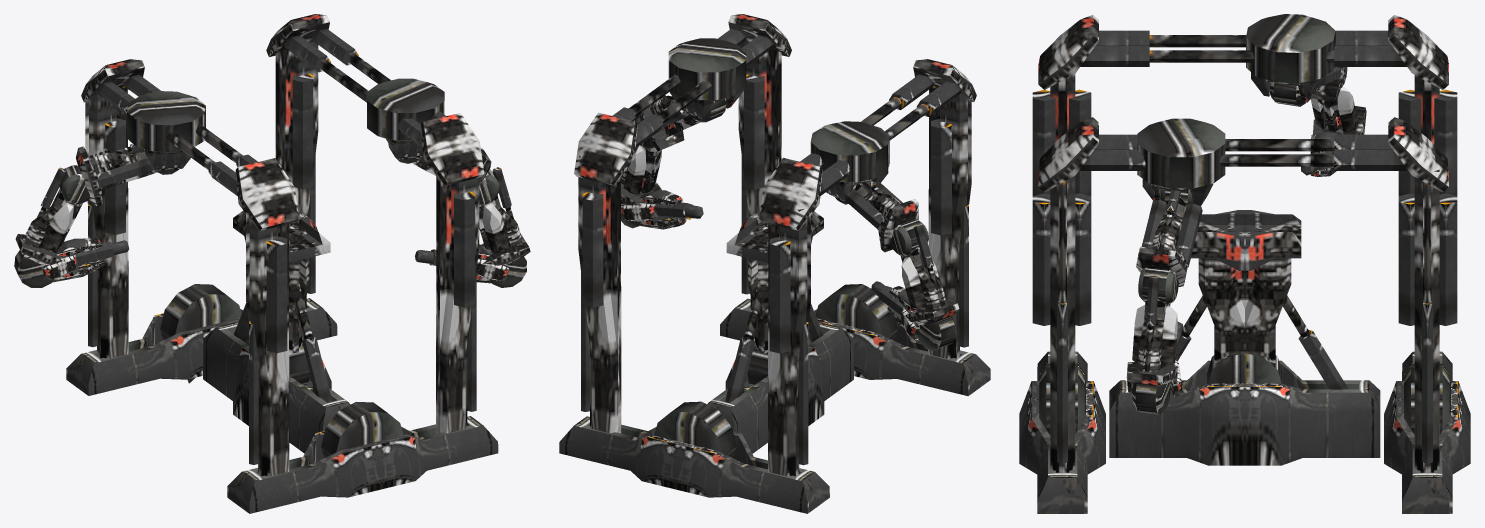
The model's file is SM_EN_1002_jixie01.FBX.
The picture shows the model from 3 angles, left to right: view 1: azimuth 30°, elevation 25°; view 2: azimuth 150°, elevation 25°; view 3: azimuth 270°, elevation 25°; orthographic projection. The views are drawn at different scales.
Parts seen in each view (by area): view 1: SM_EN_1002_jixie01; view 2: SM_EN_1002_jixie01; view 3: SM_EN_1002_jixie01.
Part boxes in pixels (box(x1,y1,x2,y2)): SM_EN_1002_jixie01: box(14, 14, 530, 513); SM_EN_1002_jixie01: box(559, 14, 990, 513); SM_EN_1002_jixie01: box(1019, 14, 1470, 513).
Bounding box in the file's own units: 149 × 113 × 121.
